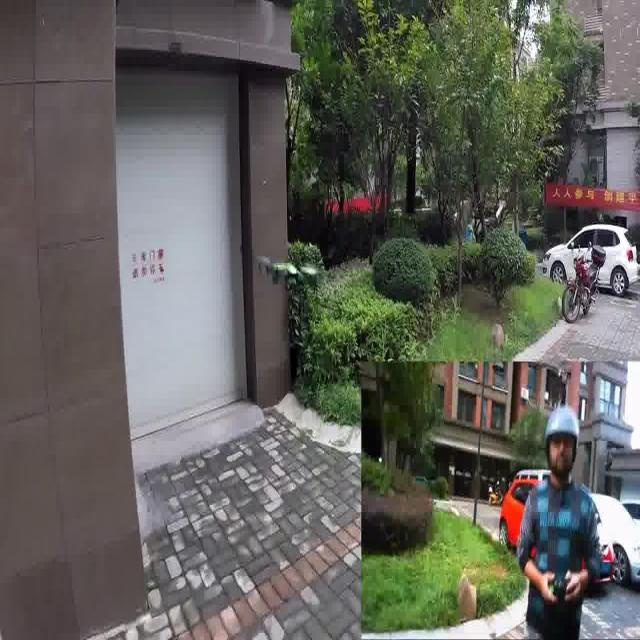drone: (250, 250, 330, 308)
